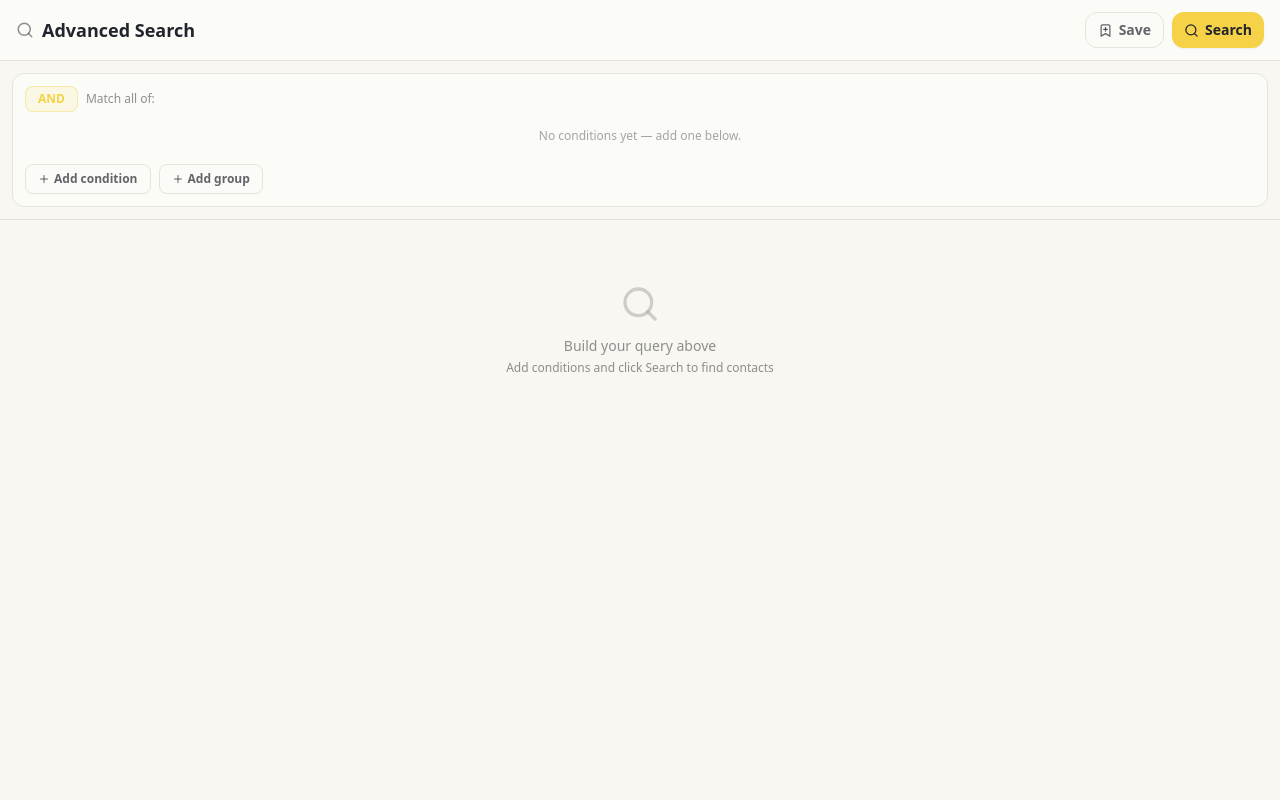
Test case: AdvancedSearchPage — save search dialog › opens the save dialog when Save is clicked
This screenshot has width=1280, height=800.
Click the button with aria-label "save search" at (1124, 30), box [1085, 12, 1164, 48]
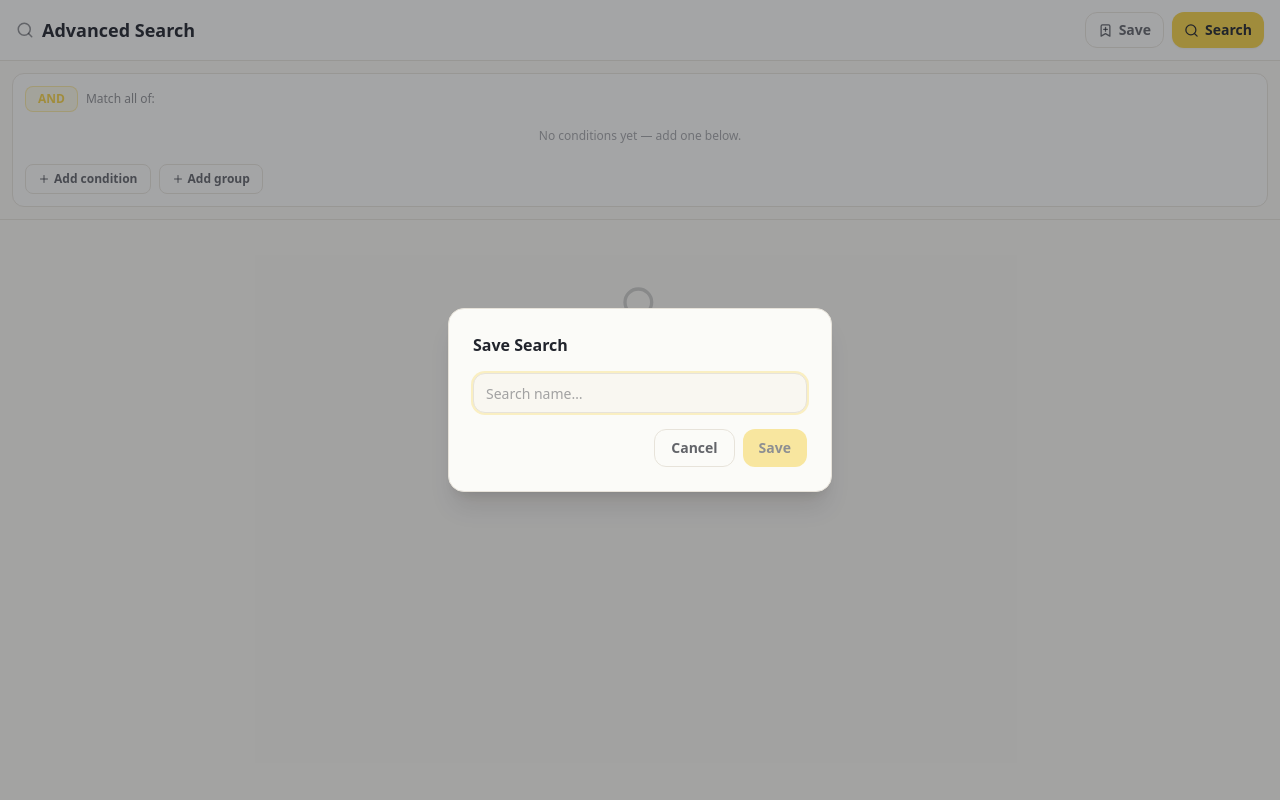
Check: the heading "Save Search" is shown, box [473, 334, 568, 356]
